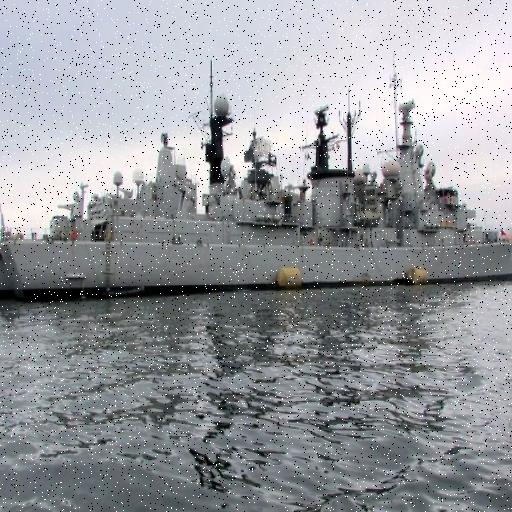Fragata: (1, 52, 512, 294)
